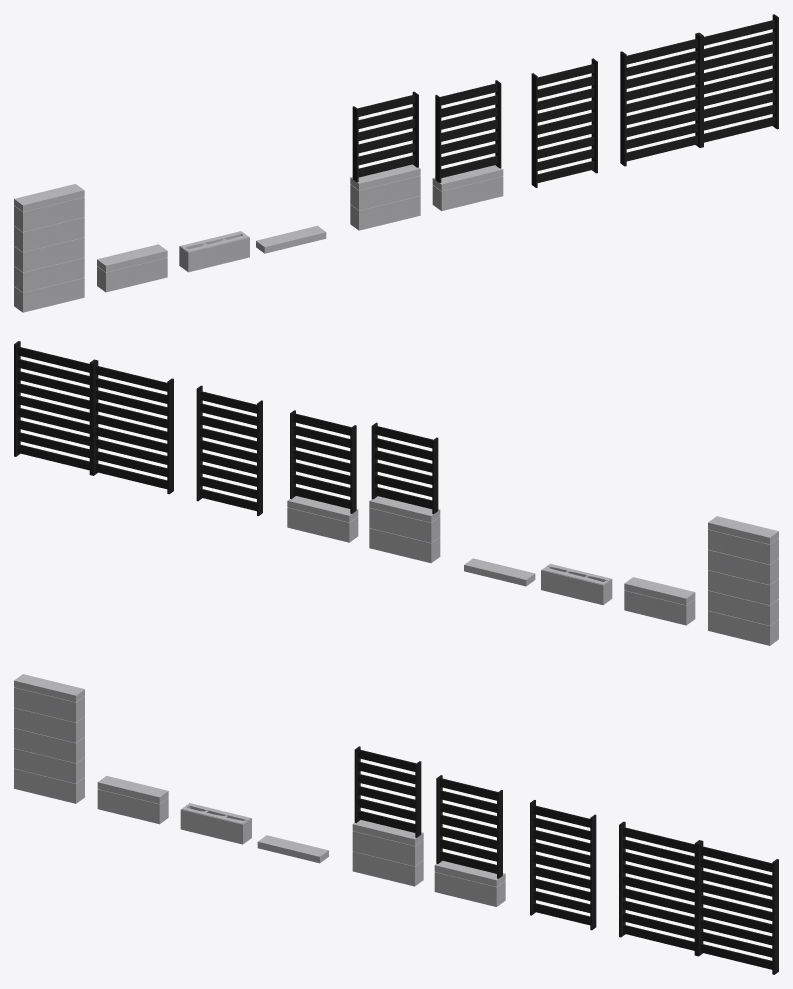
Rendered from Ogrodzenei gładkie Medium - konfigurator.obj.
3 views of the same model, one above another, from view 1: azimuth 30°, elevation 25°; view 2: azimuth 150°, elevation 25°; view 3: azimuth 330°, elevation 25° (orthographic).
Parts seen in each view (by area): view 1: Mesh40 Group19 Model, Mesh10 Group10 Model, Mesh31 Group18 Model, Mesh24 Group17 Model, Mesh20 Group15 Model, Mesh9 Group9 Model, Mesh6 Group6 Model, Mesh8 Group8 Model, Mesh3 Group3 Model, Mesh13 Group13 Model, Mesh1 Group1 Model, Mesh4 Group4 Model (+43 smaller); view 2: Mesh40 Group19 Model, Mesh10 Group10 Model, Mesh31 Group18 Model, Mesh49 Group20 Model, Mesh24 Group17 Model, Mesh9 Group9 Model, Mesh13 Group13 Model, Mesh20 Group15 Model, Mesh8 Group8 Model, Mesh6 Group6 Model, Mesh3 Group3 Model, Mesh5 Group5 Model (+43 smaller); view 3: Mesh49 Group20 Model, Mesh10 Group10 Model, Mesh31 Group18 Model, Mesh40 Group19 Model, Mesh9 Group9 Model, Mesh20 Group15 Model, Mesh8 Group8 Model, Mesh13 Group13 Model, Mesh24 Group17 Model, Mesh6 Group6 Model, Mesh1 Group1 Model, Mesh4 Group4 Model (+43 smaller).
Part boxes in pixels (box(x1,y1,x2,y2)): Mesh40 Group19 Model: box(620, 33, 701, 166); Mesh10 Group10 Model: box(179, 231, 249, 272); Mesh31 Group18 Model: box(531, 58, 597, 187); Mesh24 Group17 Model: box(435, 80, 501, 182); Mesh20 Group15 Model: box(432, 176, 503, 210); Mesh9 Group9 Model: box(350, 175, 420, 210); Mesh6 Group6 Model: box(14, 197, 84, 231); Mesh8 Group8 Model: box(350, 195, 420, 230); Mesh3 Group3 Model: box(14, 257, 84, 292); Mesh13 Group13 Model: box(97, 257, 167, 292); Mesh1 Group1 Model: box(14, 277, 84, 312); Mesh4 Group4 Model: box(14, 237, 84, 272); Mesh40 Group19 Model: box(91, 360, 173, 494); Mesh10 Group10 Model: box(541, 563, 612, 605); Mesh31 Group18 Model: box(196, 385, 262, 515); Mesh49 Group20 Model: box(14, 341, 95, 475); Mesh24 Group17 Model: box(290, 410, 356, 513); Mesh9 Group9 Model: box(369, 507, 440, 542); Mesh13 Group13 Model: box(624, 590, 695, 625); Mesh20 Group15 Model: box(287, 507, 358, 542); Mesh8 Group8 Model: box(369, 528, 440, 563); Mesh6 Group6 Model: box(708, 529, 778, 564); Mesh3 Group3 Model: box(708, 590, 778, 625); Mesh5 Group5 Model: box(708, 549, 778, 584); Mesh49 Group20 Model: box(696, 840, 778, 974); Mesh10 Group10 Model: box(180, 803, 251, 844); Mesh31 Group18 Model: box(530, 800, 596, 930); Mesh40 Group19 Model: box(619, 821, 700, 955); Mesh9 Group9 Model: box(352, 831, 423, 866); Mesh20 Group15 Model: box(434, 872, 505, 906); Mesh8 Group8 Model: box(352, 851, 423, 886); Mesh13 Group13 Model: box(97, 789, 168, 824); Mesh24 Group17 Model: box(436, 775, 502, 878); Mesh6 Group6 Model: box(14, 687, 84, 722); Mesh1 Group1 Model: box(14, 768, 84, 803); Mesh4 Group4 Model: box(14, 728, 84, 762).
Bounding box in the file's own units: 980 × 148 × 21.42.
